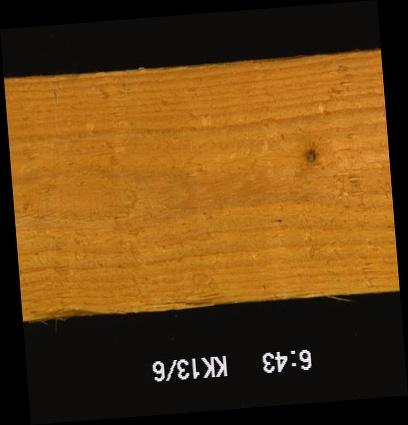dry_knot: (302, 145, 318, 167)
split: (22, 287, 210, 314)
